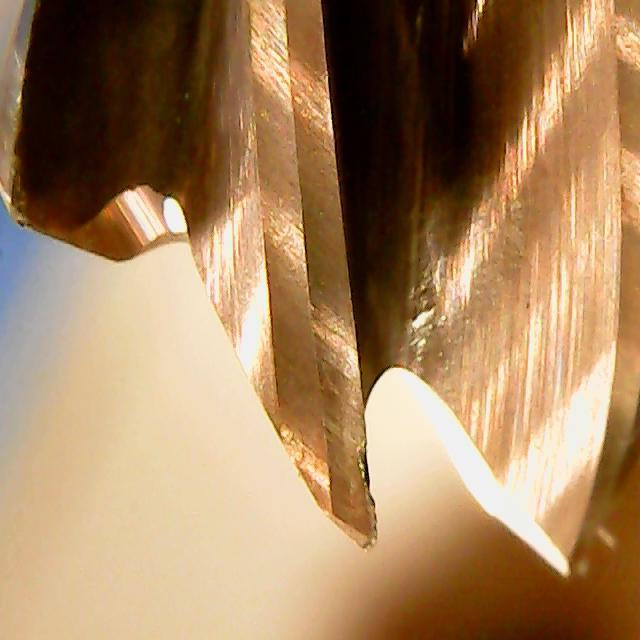Tool-wear-class-1: (262, 274, 382, 560)
